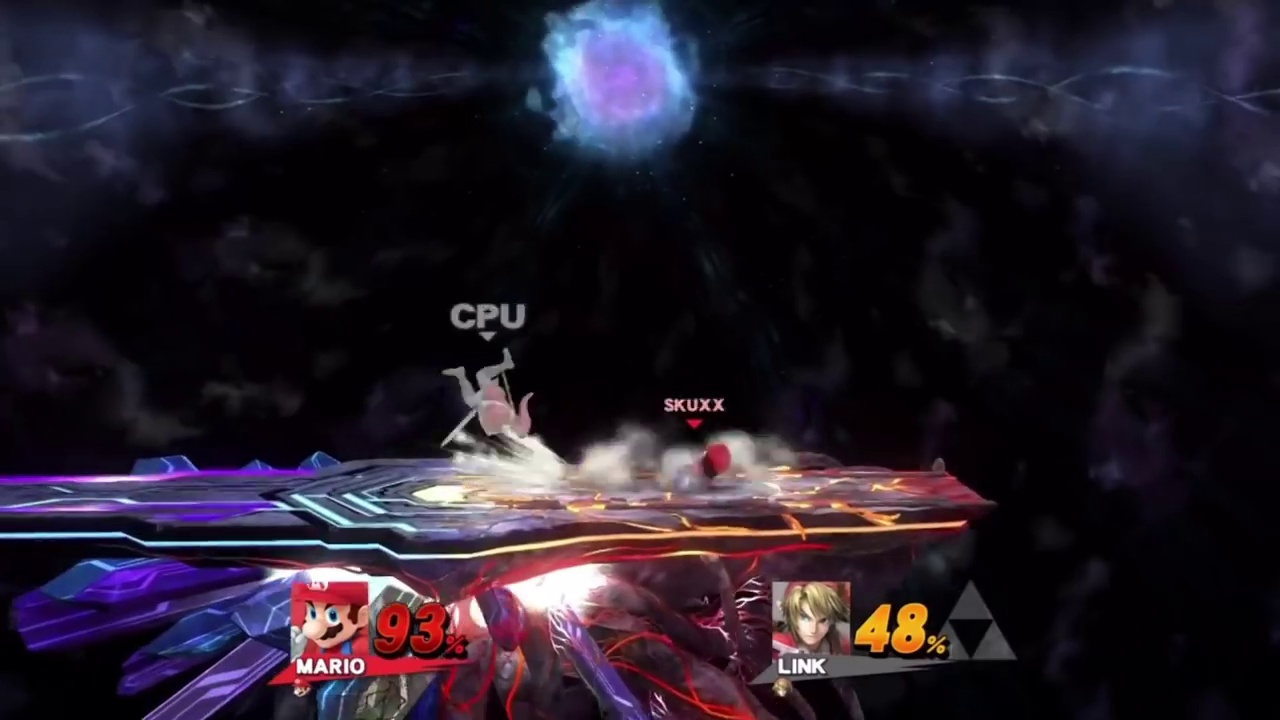Mario: (677, 448, 730, 484)
